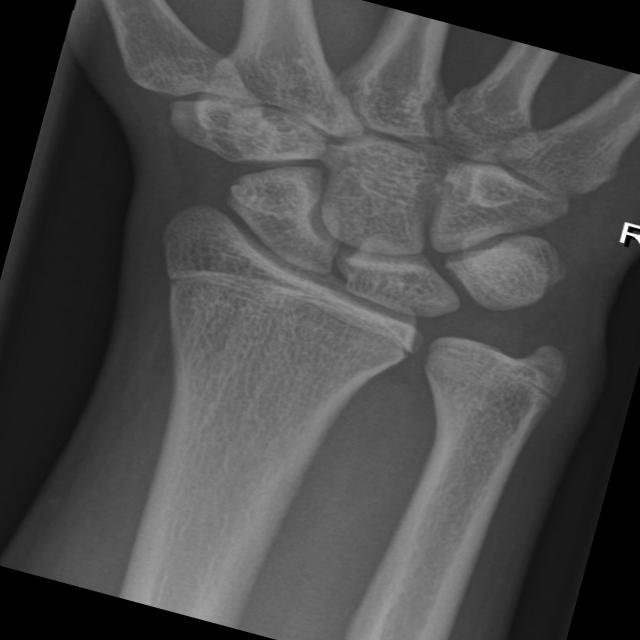fracture: (130, 236, 429, 372), (382, 323, 584, 420)
